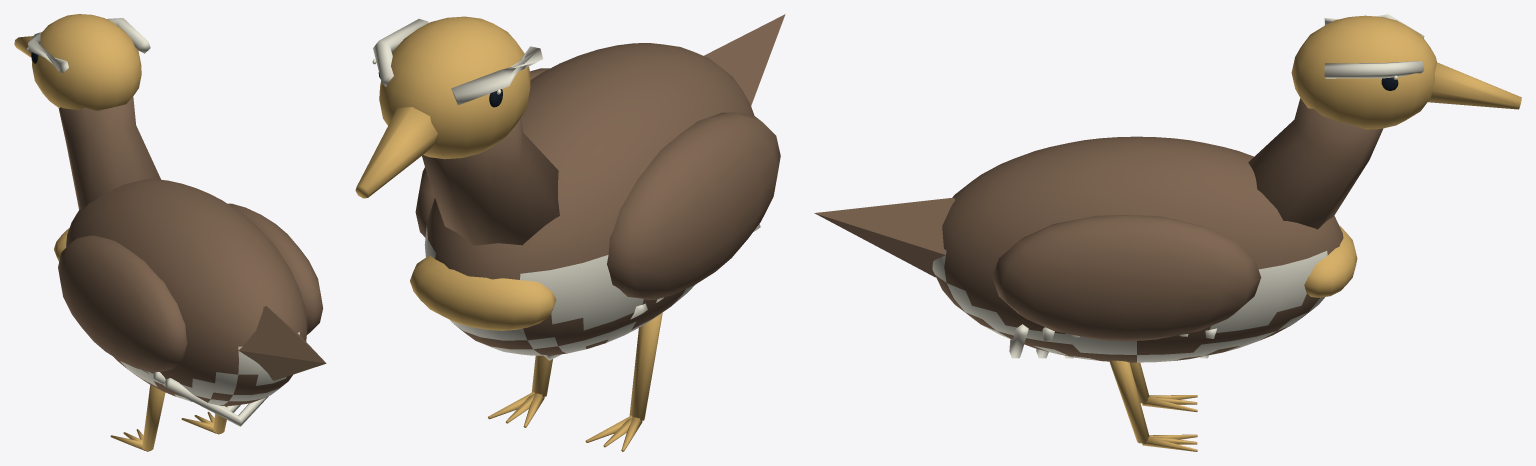
Rendered from buff-banded-rail.glb.
3 renders of one model, left to right at view 1: azimuth 30°, elevation 25°; view 2: azimuth 150°, elevation 25°; view 3: azimuth 270°, elevation 25°, orthographic. The views are drawn at different scales.
Parts seen in each view (by area): view 1: buff-banded-rail; view 2: buff-banded-rail; view 3: buff-banded-rail.
Part boxes in pixels (box(x1,y1,x2,y2)): buff-banded-rail: box(14, 14, 326, 451); buff-banded-rail: box(355, 14, 785, 451); buff-banded-rail: box(814, 14, 1521, 451).
Size of the model in its own units: 0.117 by 0.1989 by 0.3158.
